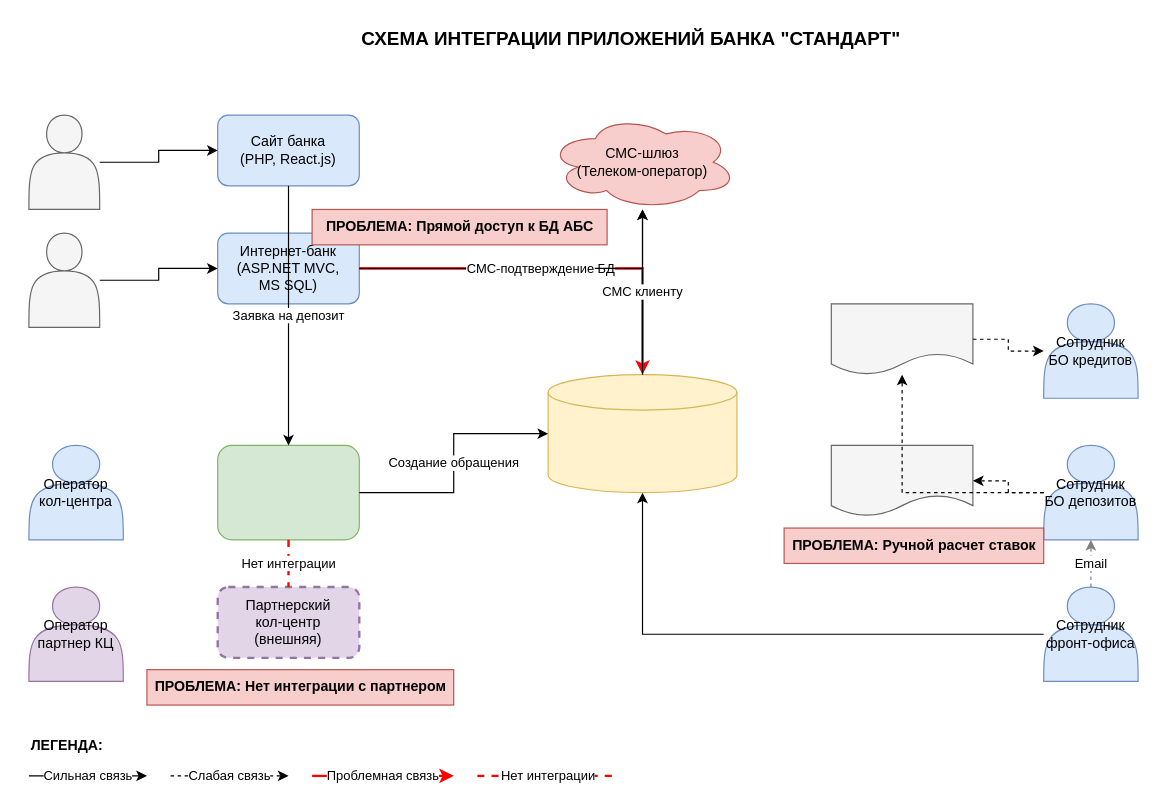
The diagram is 1159 pixels wide and 806 high, and some of its shapes have lost their labels. The shapes that lost their labels are listed below. From the top down, each one's centre as x and y in pixels, then its label:
the point at 64,161: Новый клиент
the point at 64,279: Клиент
the point at 901,339: Email (переписка)
the point at 642,433: АБС (Delphi, Oracle)
the point at 288,492: Система кол-центра (Java, React, PostgreSQL)
the point at 901,480: Excel (расчет ставок)
